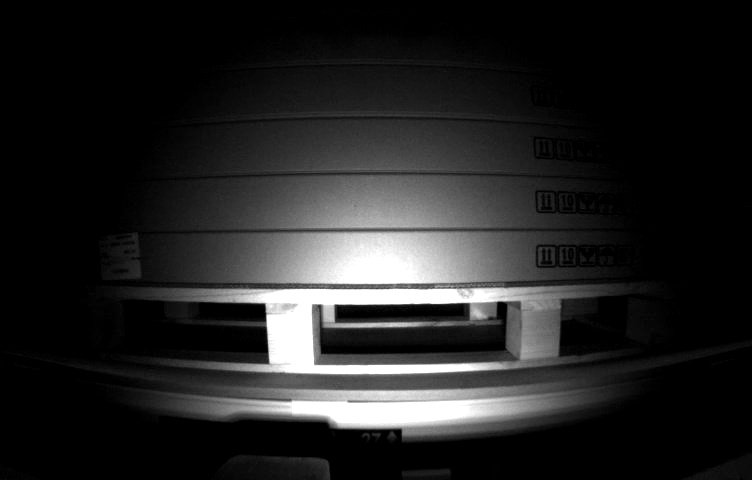True Barcode: (97, 230, 140, 279)
